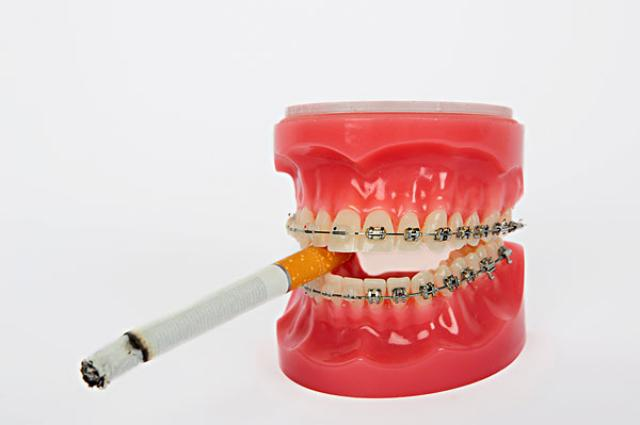Cigarette: (80, 243, 354, 391)
